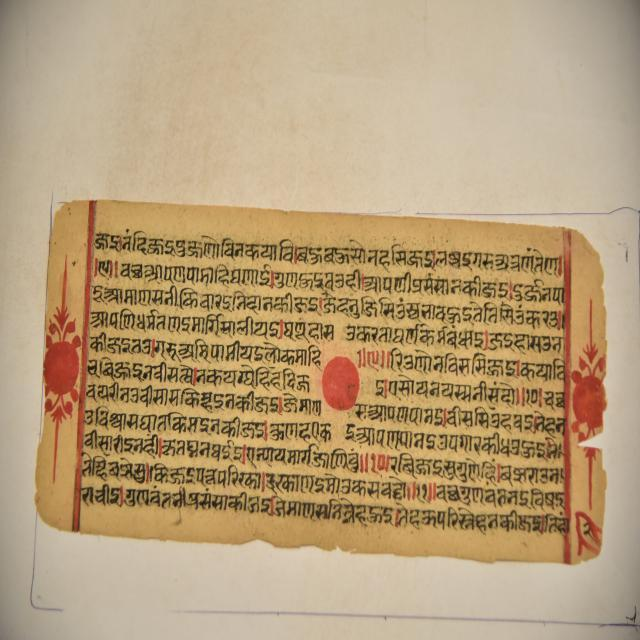text_paragraph: (36, 200, 606, 576)
